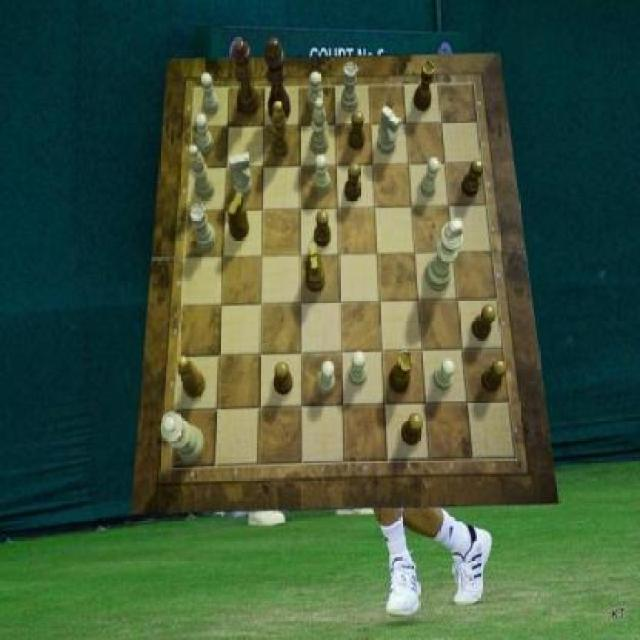bishop: (177, 356, 206, 400), (271, 100, 290, 158)
black-bishop: (264, 39, 292, 122)
black-king: (306, 242, 326, 292), (228, 192, 248, 240)
black-knight: (482, 358, 508, 392), (472, 305, 497, 339), (462, 160, 484, 198), (401, 414, 424, 446), (344, 163, 362, 202), (274, 362, 293, 396), (314, 209, 331, 247), (348, 111, 364, 151)
black-pawn: (232, 40, 262, 118)
black-queen: (412, 60, 435, 112), (389, 351, 413, 393)
black-rook: (190, 145, 216, 199), (310, 97, 328, 155)
white-bishop: (425, 220, 462, 292)
white-king: (377, 106, 400, 156), (230, 152, 252, 198)
white-knight: (420, 158, 440, 198), (432, 358, 455, 392), (200, 74, 219, 115), (195, 114, 213, 154), (348, 350, 367, 386), (317, 360, 336, 395), (314, 155, 331, 194), (308, 71, 324, 109)
white-pawn: (160, 411, 205, 463)
white-queen: (191, 203, 217, 249), (342, 61, 359, 112)
